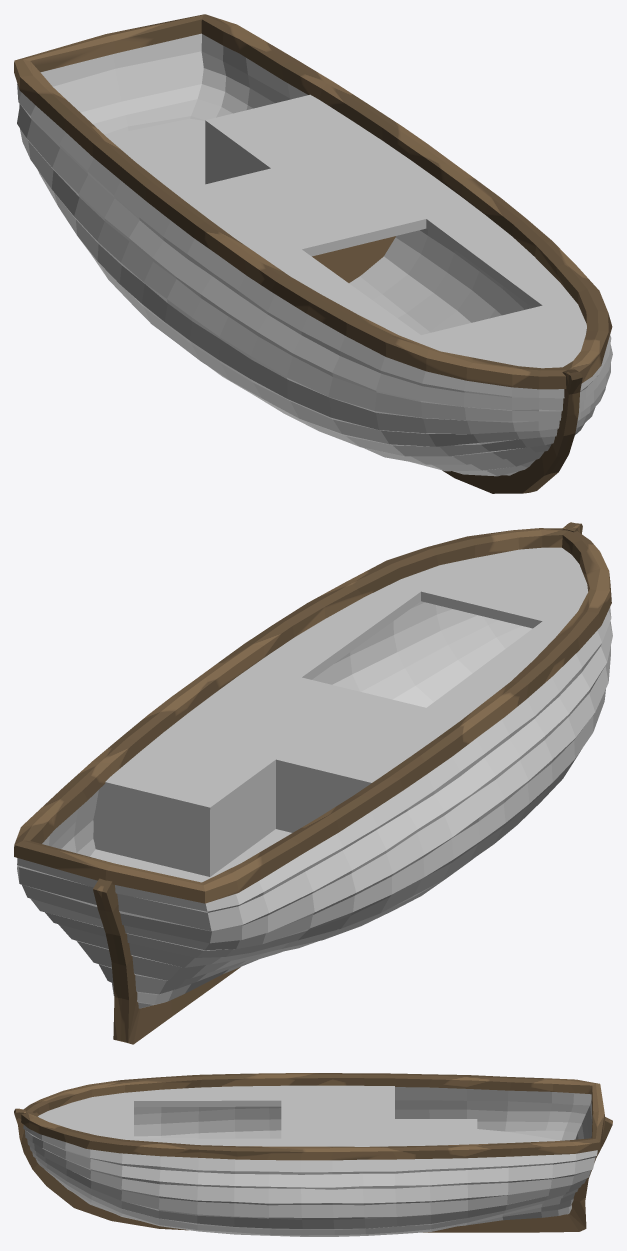
Rendered from SM_Veh_Ship_S_Hull_01.fbx.
3 views of the same model, one above another, from view 1: azimuth 30°, elevation 25°; view 2: azimuth 150°, elevation 25°; view 3: azimuth 270°, elevation 25° (orthographic). The views are drawn at different scales.
Visible parts, largest first — view 1: SM_Veh_Ship_S_Hull_01; view 2: SM_Veh_Ship_S_Hull_01; view 3: SM_Veh_Ship_S_Hull_01.
Boxes of the visible parts, x1,y1,x2,y2 form: SM_Veh_Ship_S_Hull_01: [14, 14, 612, 493]; SM_Veh_Ship_S_Hull_01: [14, 522, 612, 1044]; SM_Veh_Ship_S_Hull_01: [14, 1073, 612, 1236].
Size of the model in its own units: 652 by 380 by 1711.
